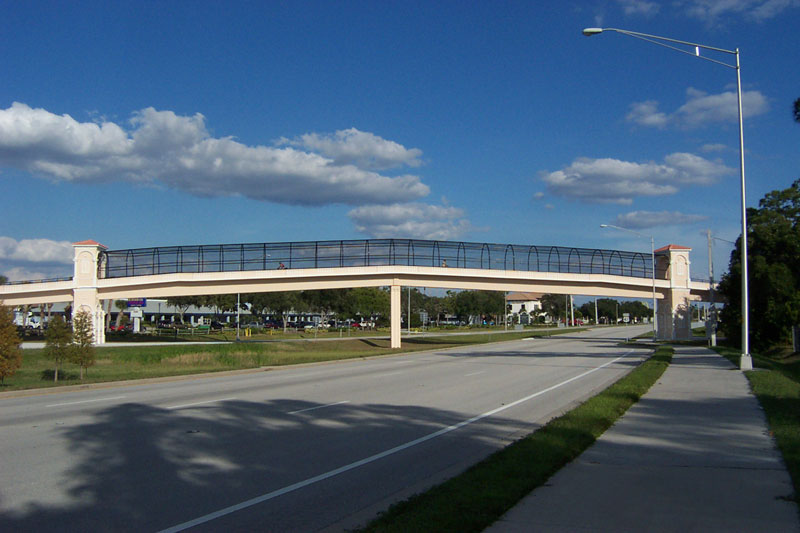bridge: (5, 238, 718, 305)
